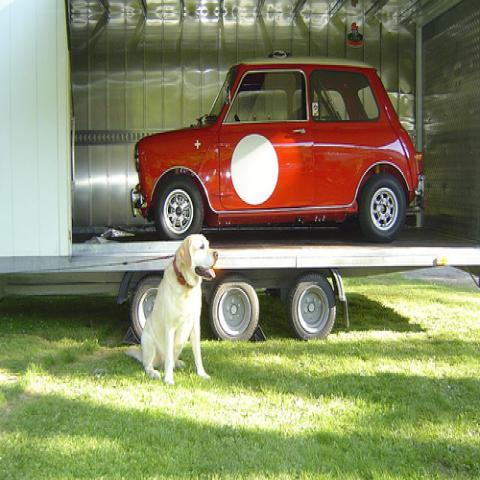car: (130, 59, 428, 244)
truck: (0, 1, 479, 343)
